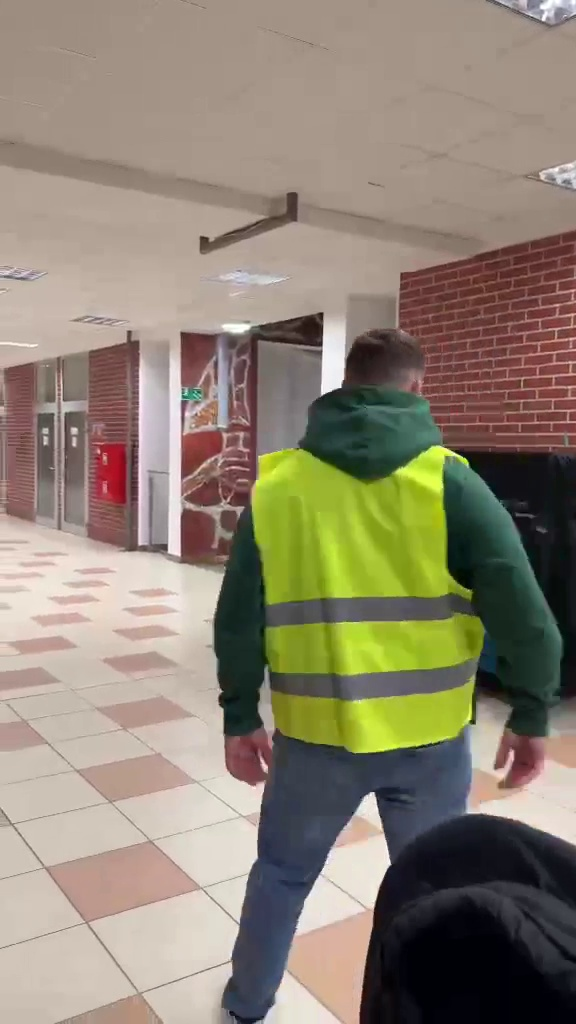vest: (207, 324, 570, 1007)
